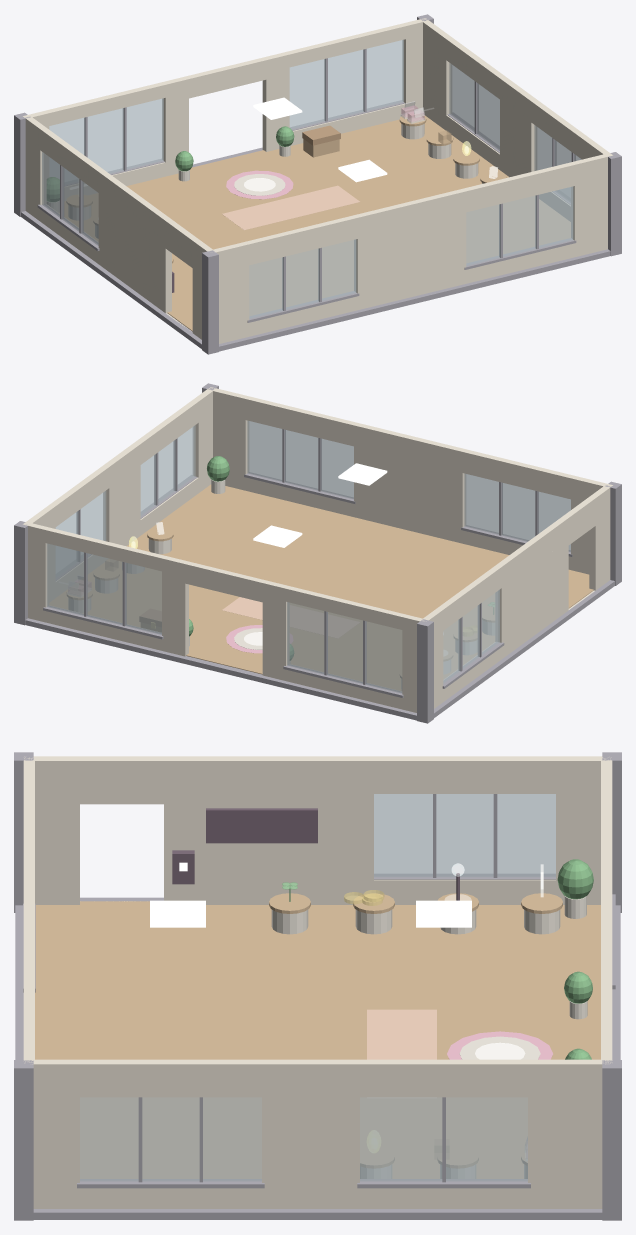
Rendered from Floor01.glb.
The picture shows the model from 3 angles, top to bottom: view 1: azimuth 30°, elevation 25°; view 2: azimuth 150°, elevation 25°; view 3: azimuth 270°, elevation 25°; orthographic projection. The views are drawn at different scales.
Parts seen in each view (by area): view 1: Floor01_25, Floor01_11, Floor01_13, Floor01_9, Floor01_17, Floor01_26, Floor01_24, Floor01_1, Floor01_15, Floor01_10; view 2: Floor01_25, Floor01_11, Floor01_13, Floor01_9, Floor01_26, Floor01_17, Floor01_24, Floor01_1; view 3: Floor01_25, Floor01_11, Floor01_13, Floor01_9, Floor01_26, Floor01_0, Floor01_17, Floor01_24, Floor01_1, Floor01_15, Floor01_22.
Boxes of the visible parts, bbox=[...] form: Floor01_25: bbox=[23, 18, 612, 343]; Floor01_11: bbox=[64, 115, 570, 331]; Floor01_13: bbox=[42, 39, 581, 318]; Floor01_9: bbox=[14, 14, 621, 354]; Floor01_17: bbox=[222, 185, 359, 230]; Floor01_26: bbox=[47, 124, 483, 238]; Floor01_24: bbox=[253, 97, 387, 182]; Floor01_1: bbox=[47, 126, 294, 201]; Floor01_15: bbox=[226, 170, 293, 199]; Floor01_10: bbox=[302, 125, 340, 145]; Floor01_25: bbox=[23, 387, 612, 712]; Floor01_11: bbox=[49, 484, 593, 690]; Floor01_13: bbox=[46, 421, 570, 693]; Floor01_9: bbox=[14, 383, 621, 723]; Floor01_26: bbox=[68, 479, 494, 688]; Floor01_17: bbox=[222, 597, 359, 638]; Floor01_24: bbox=[253, 463, 387, 547]; Floor01_1: bbox=[189, 456, 293, 660]; Floor01_25: bbox=[23, 756, 612, 1208]; Floor01_11: bbox=[35, 893, 600, 1178]; Floor01_13: bbox=[80, 794, 555, 1181]; Floor01_9: bbox=[14, 752, 621, 1220]; Floor01_26: bbox=[271, 896, 587, 1178]; Floor01_0: bbox=[172, 808, 459, 900]; Floor01_17: bbox=[367, 1009, 436, 1097]; Floor01_24: bbox=[150, 900, 471, 927]; Floor01_1: bbox=[557, 859, 593, 1059]; Floor01_15: bbox=[447, 1031, 552, 1059]; Floor01_22: bbox=[475, 1042, 525, 1059].
Size of the model in its own units: 53.4 by 12 by 43.4.
